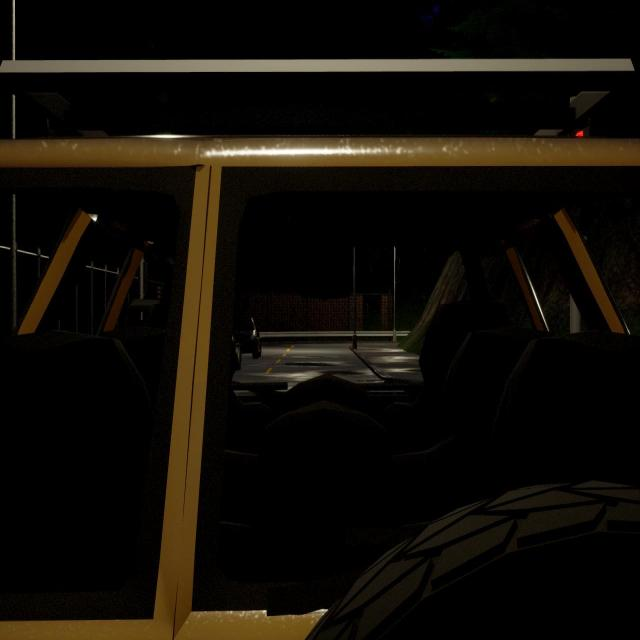Vehicle: (0, 50, 640, 639), (230, 316, 263, 364)
traffic_light: (574, 114, 590, 155)
